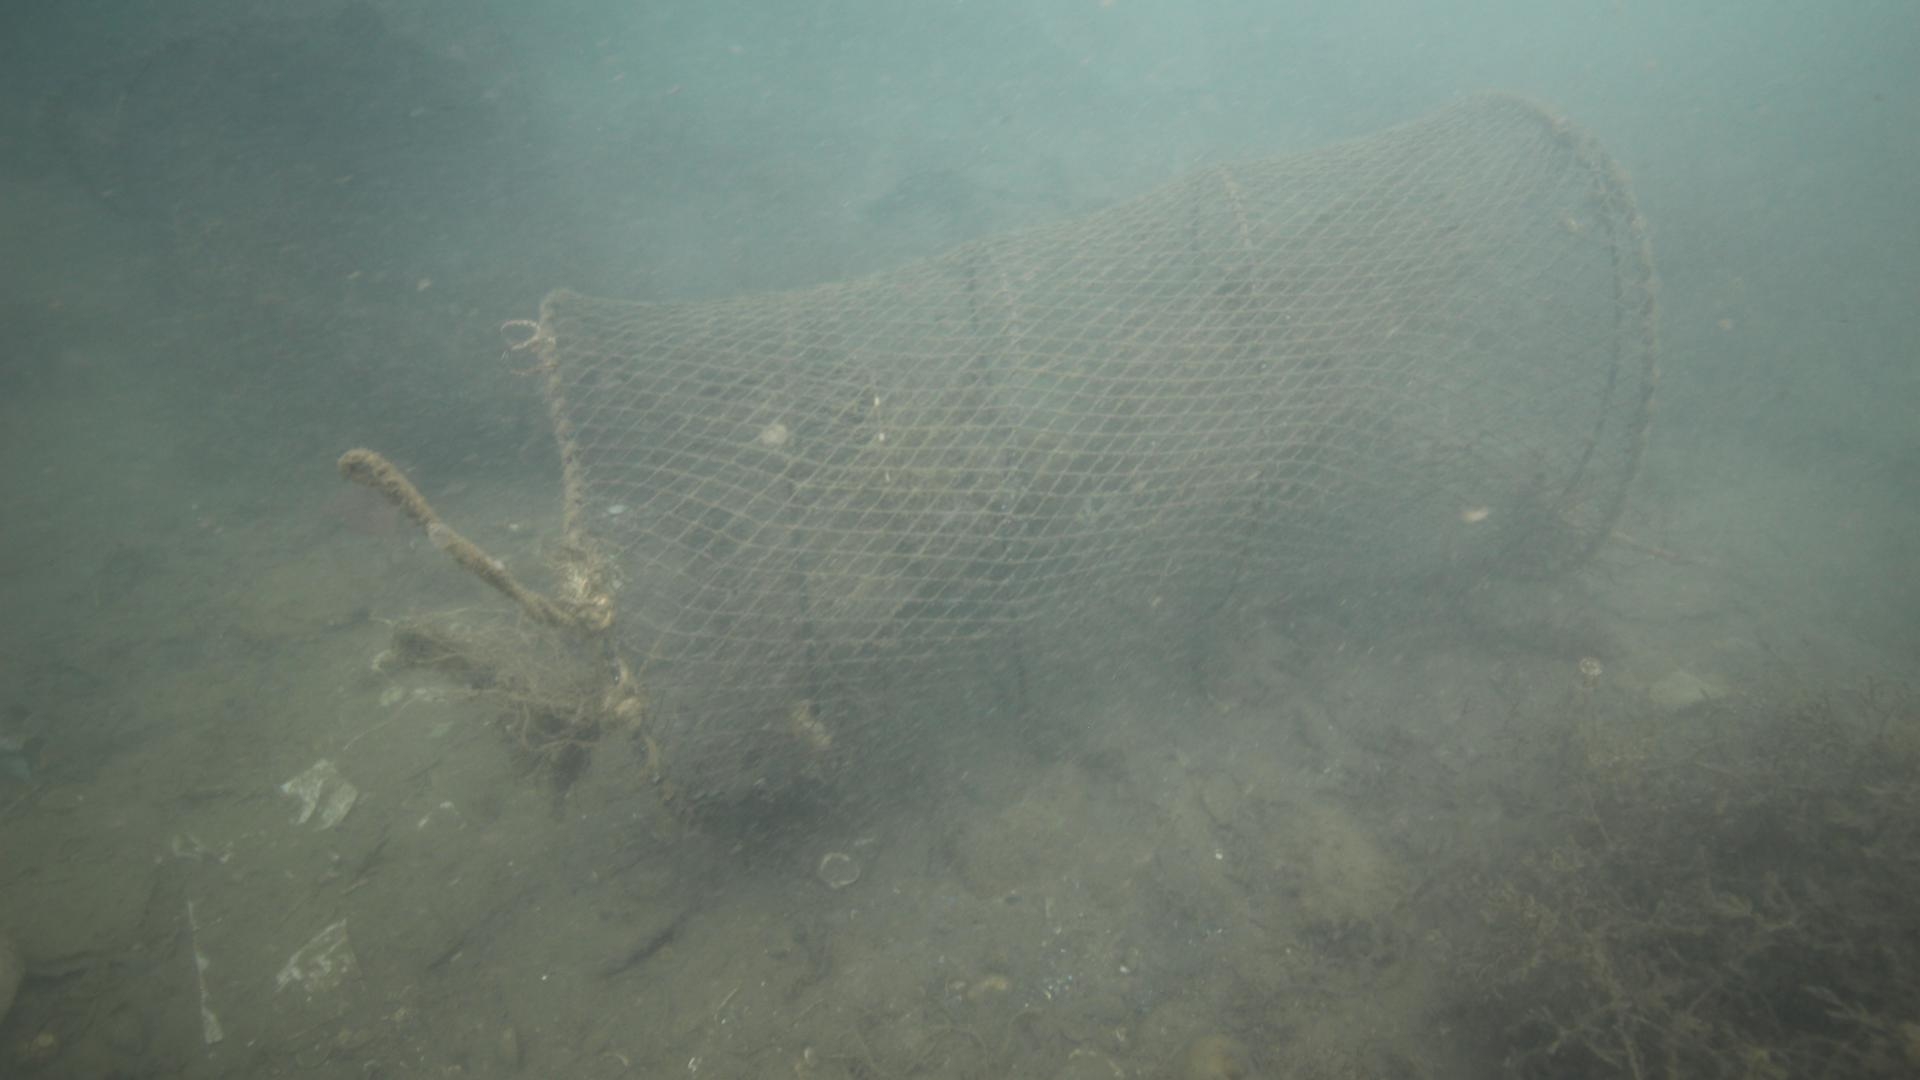rope: (339, 433, 564, 636)
spring fish trap: (531, 84, 1658, 825)
